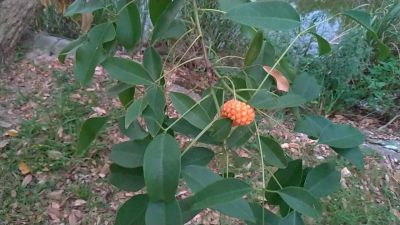eggs: (220, 97, 256, 126)
